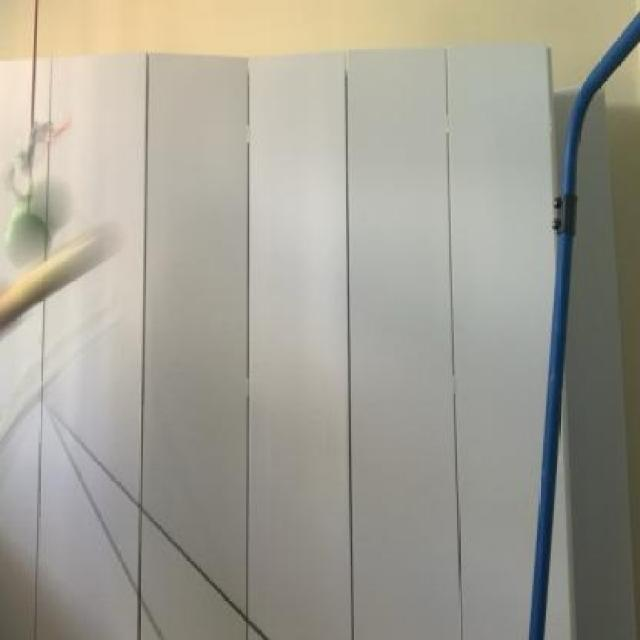baseball: (11, 178, 69, 274)
